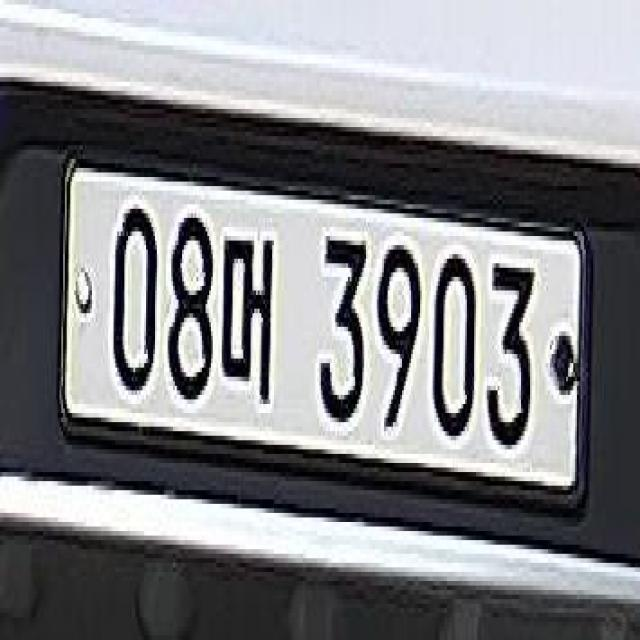illegal_plate: (60, 142, 592, 533)
